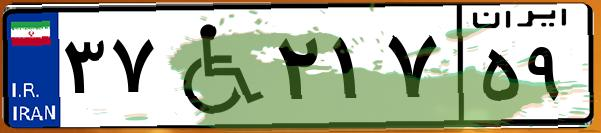1: (330, 28, 385, 110)
2: (270, 28, 330, 110)
3: (57, 26, 110, 100)
5: (475, 38, 525, 113)
7: (385, 28, 445, 110), (110, 28, 158, 98)
9: (525, 38, 570, 115)
ژ (معلولین و جانبازان): (158, 12, 270, 120)
